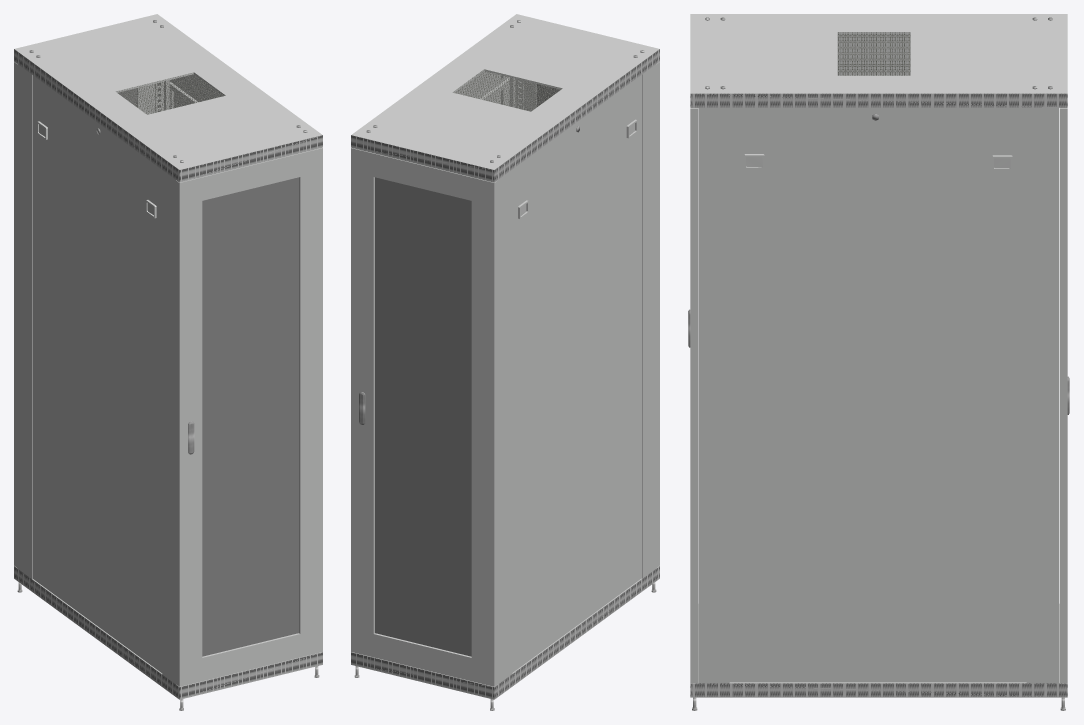
Rendered from RKBG47.fbx.
The picture shows the model from 3 angles, left to right: view 1: azimuth 30°, elevation 25°; view 2: azimuth 150°, elevation 25°; view 3: azimuth 270°, elevation 25°; orthographic projection. The views are drawn at different scales.
Parts seen in each view (by area): view 1: frontdoor, RKBG47, Box174, backdoor; view 2: backdoor, RKBG47, Box174, frontdoor; view 3: RKBG47, Box174, frontdoor, backdoor.
Boxes of the visible parts, <box> form: frontdoor: <box>176,148,322,686</box>; RKBG47: <box>32,74,223,672</box>; Box174: <box>14,14,322,710</box>; backdoor: <box>14,62,155,567</box>; backdoor: <box>351,148,497,686</box>; RKBG47: <box>454,71,641,672</box>; Box174: <box>351,14,659,710</box>; frontdoor: <box>519,62,659,567</box>; RKBG47: <box>729,34,1026,682</box>; Box174: <box>690,14,1067,710</box>; frontdoor: <box>688,108,697,682</box>; backdoor: <box>1060,108,1069,682</box>.
Bounding box in the file's own units: 610 × 2172 × 1213.
6 materials, 5 textured.
